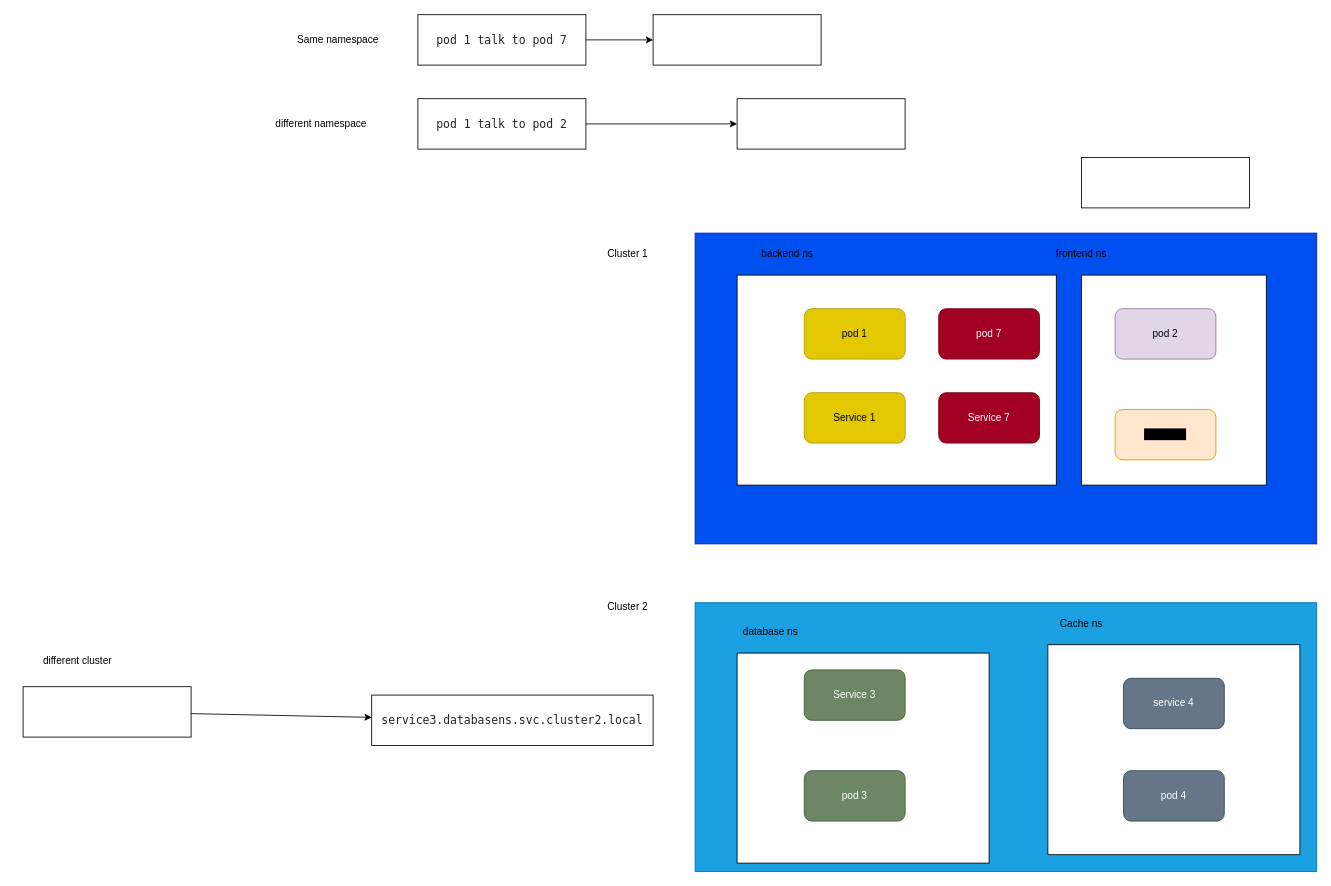
Image size: 1331x886. Some labels were removed from this diagram. The shapes that lost their labels are listed below. From the top down, each one's centre as x and y in pixels, then its label:
At pixel 736 39: "service7".
At pixel 820 123: "service2.frontendns".
At pixel 1165 182: "service1.backendns".
At pixel 106 711: "pod 1 talk to pod 3".
